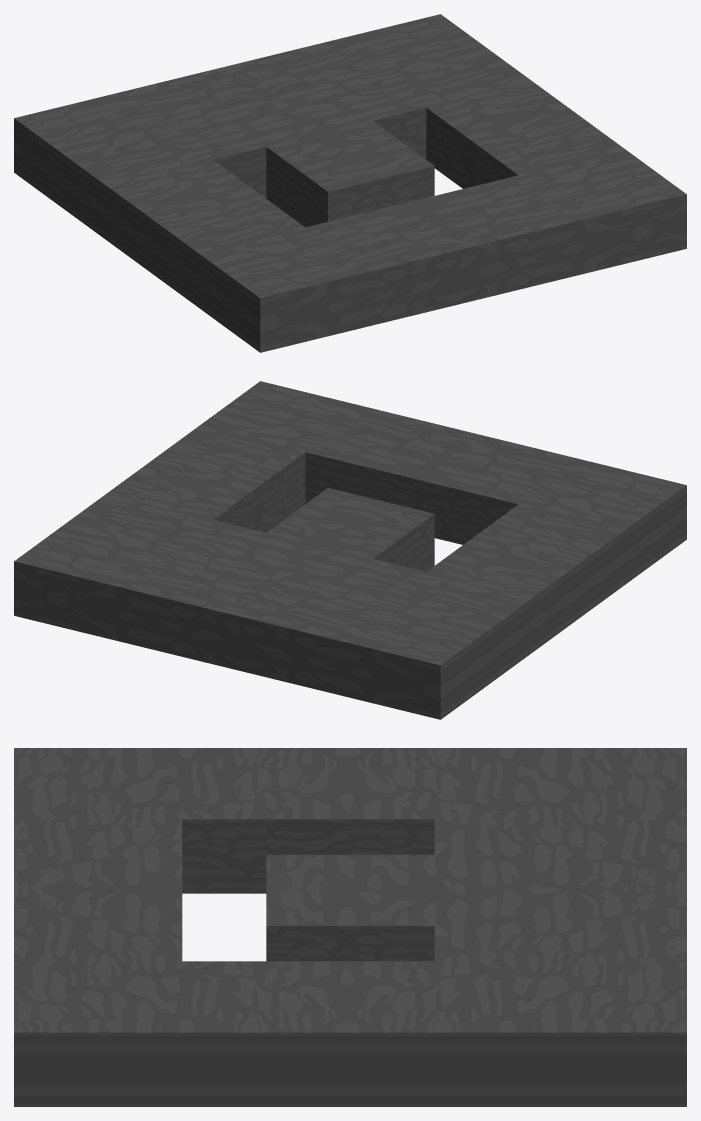
Rendered from prison.fbx.
3 views of the same model, one above another, from view 1: azimuth 30°, elevation 25°; view 2: azimuth 150°, elevation 25°; view 3: azimuth 270°, elevation 25° (orthographic). The views are drawn at different scales.
Visible parts, largest first — view 1: prison; view 2: prison; view 3: prison.
Boxes of the visible parts, bbox=[...] form: prison: bbox=[14, 14, 686, 352]; prison: bbox=[14, 381, 686, 719]; prison: bbox=[14, 748, 686, 1106].
Size of the model in its own units: 1643 by 200 by 1643.
